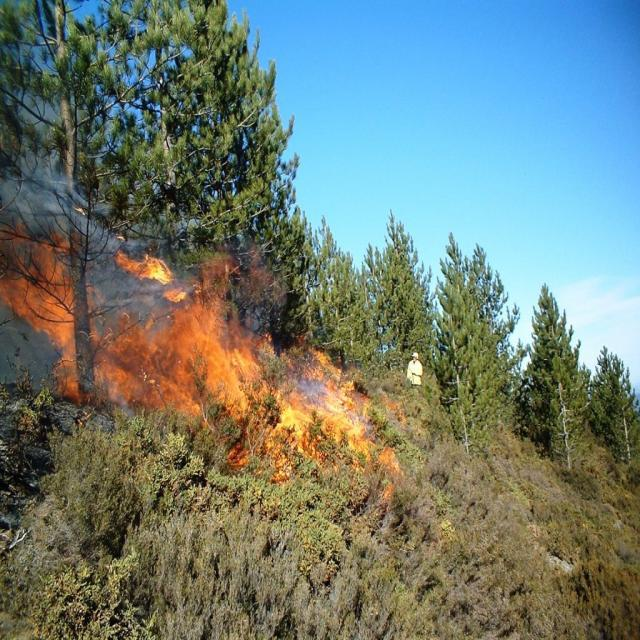Fire: (38, 260, 390, 485)
Smoke: (4, 176, 178, 328)
